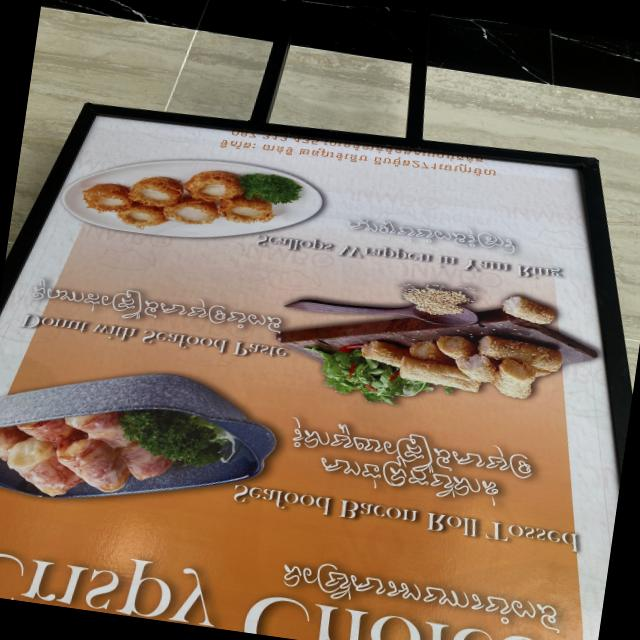10: (216, 137, 411, 170)
688: (411, 158, 437, 175)
Yolov11_80vkh: (273, 554, 570, 638), (287, 414, 545, 492), (26, 272, 293, 342), (310, 445, 507, 512), (342, 214, 519, 256), (436, 161, 498, 181)
